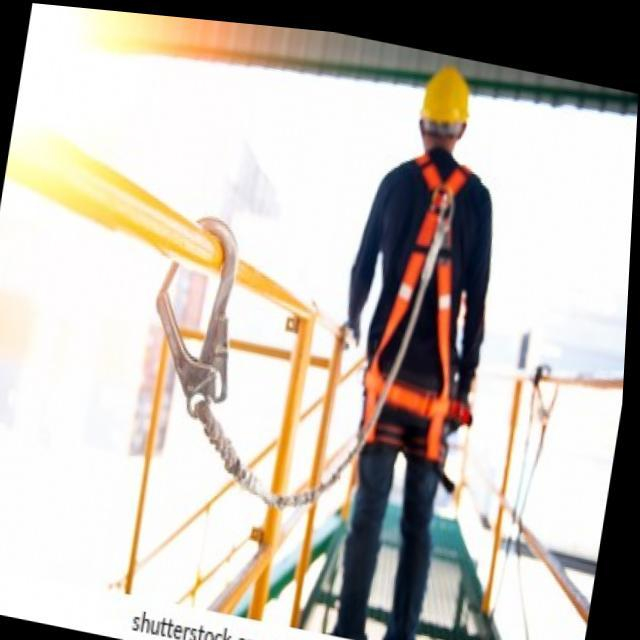belt: (376, 144, 496, 416)
